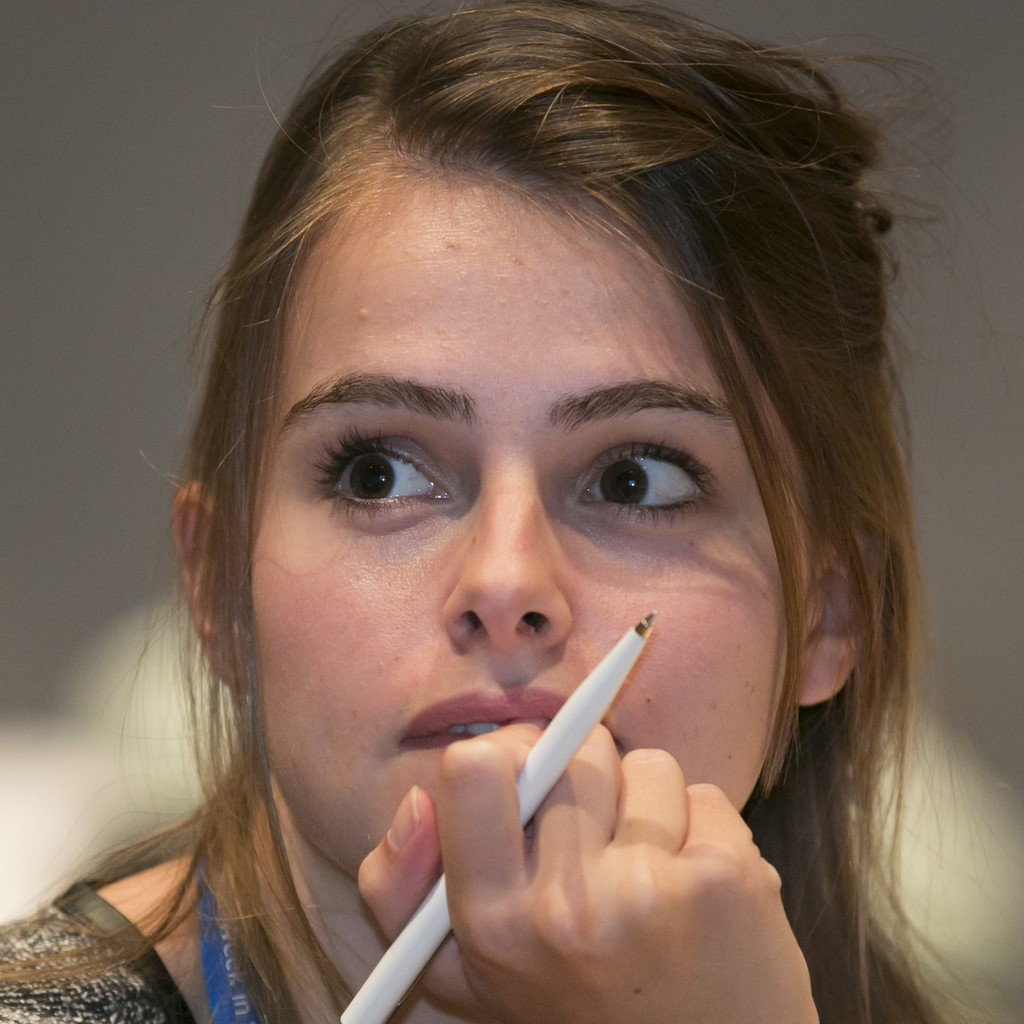sin_mascara: (244, 99, 792, 930)
